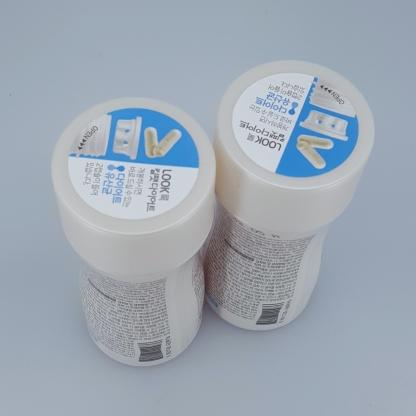------LOOK------170ML: (200, 59, 375, 331), (51, 96, 216, 367)
